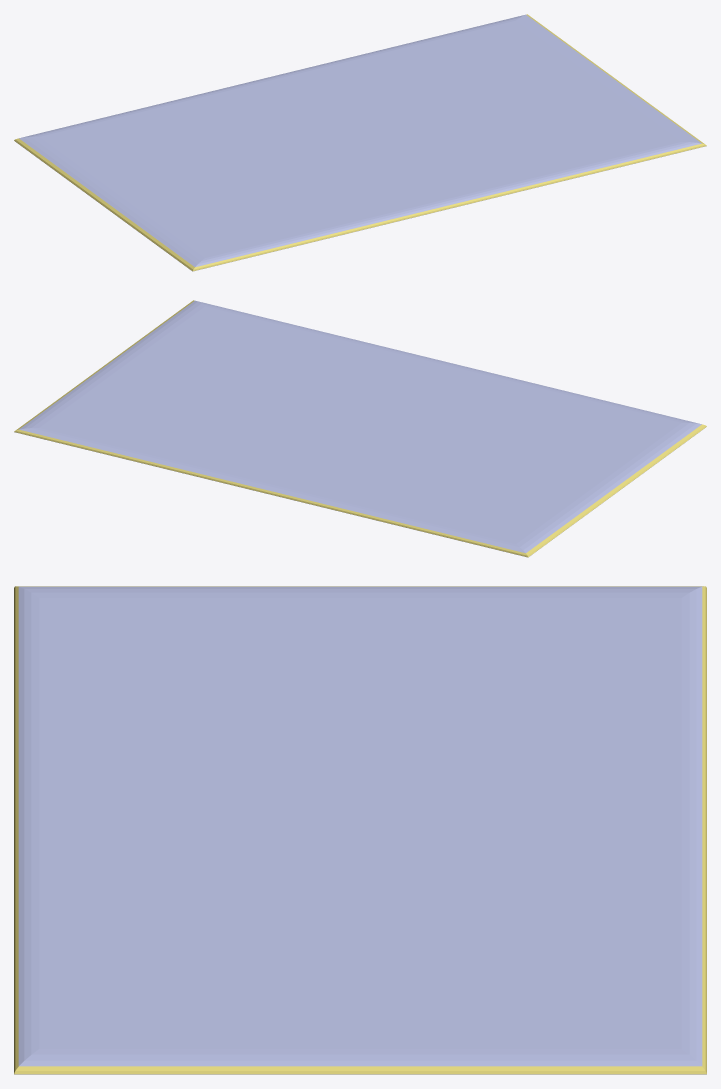
Rendered from carpet-00000.glb.
3 renders of one model, top to bottom at view 1: azimuth 30°, elevation 25°; view 2: azimuth 150°, elevation 25°; view 3: azimuth 270°, elevation 25°, orthographic. The views are drawn at different scales.
Visible parts, largest first — view 1: Plane.016; view 2: Plane.016; view 3: Plane.016.
Part boxes in pixels (x1=…): Plane.016: x1=14, y1=14, x2=706, y2=271; Plane.016: x1=14, y1=300, x2=706, y2=557; Plane.016: x1=14, y1=586, x2=706, y2=1074.
Bounding box in the file's own units: 2 × 0.0153 × 1.2.
